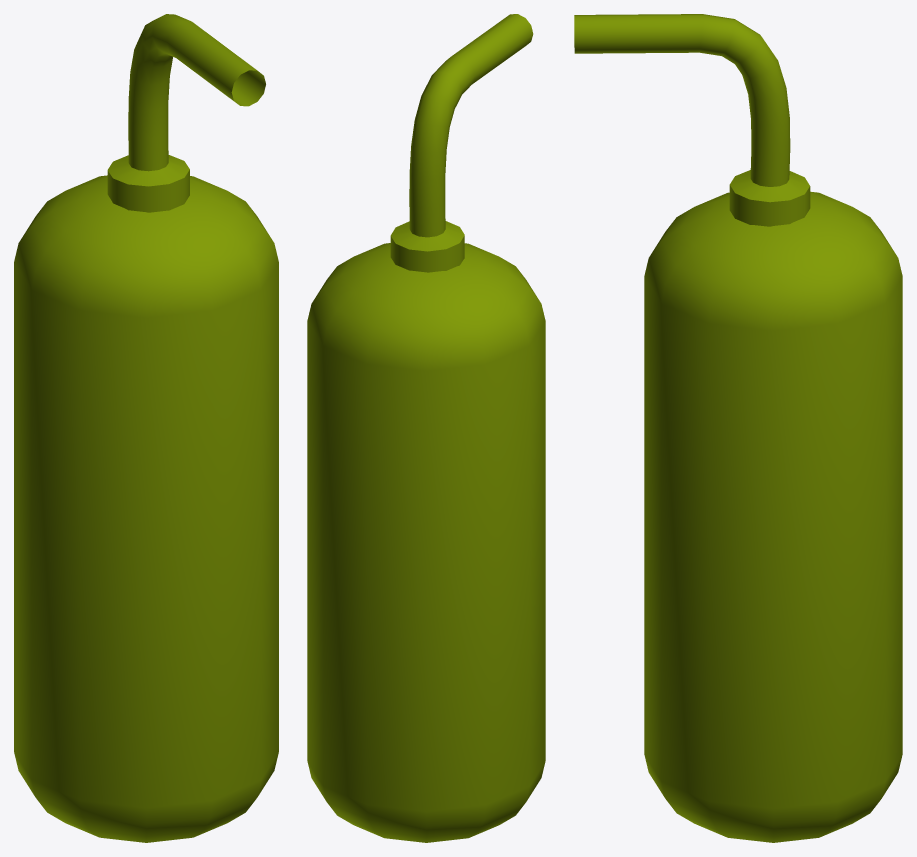
File: SM_Bombonne.fbx
The picture shows the model from 3 angles, left to right: view 1: azimuth 30°, elevation 25°; view 2: azimuth 150°, elevation 25°; view 3: azimuth 270°, elevation 25°; orthographic projection. The views are drawn at different scales.
Visible parts, largest first — view 1: Bombonne; view 2: Bombonne; view 3: Bombonne.
Boxes of the visible parts, x1=… form: Bombonne: x1=14, y1=14, x2=278, y2=842; Bombonne: x1=307, y1=14, x2=545, y2=842; Bombonne: x1=574, y1=14, x2=902, y2=842.
Size of the model in its own units: 33.24 by 115 by 42.25.
